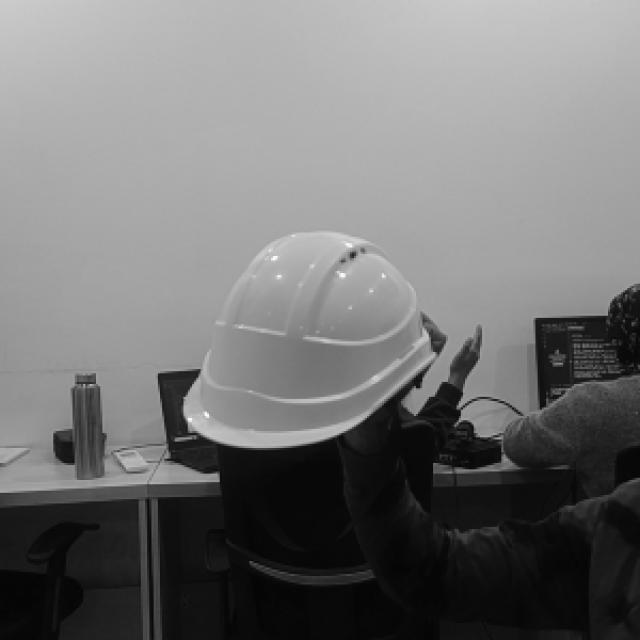safety_helmet: (184, 229, 438, 449)
